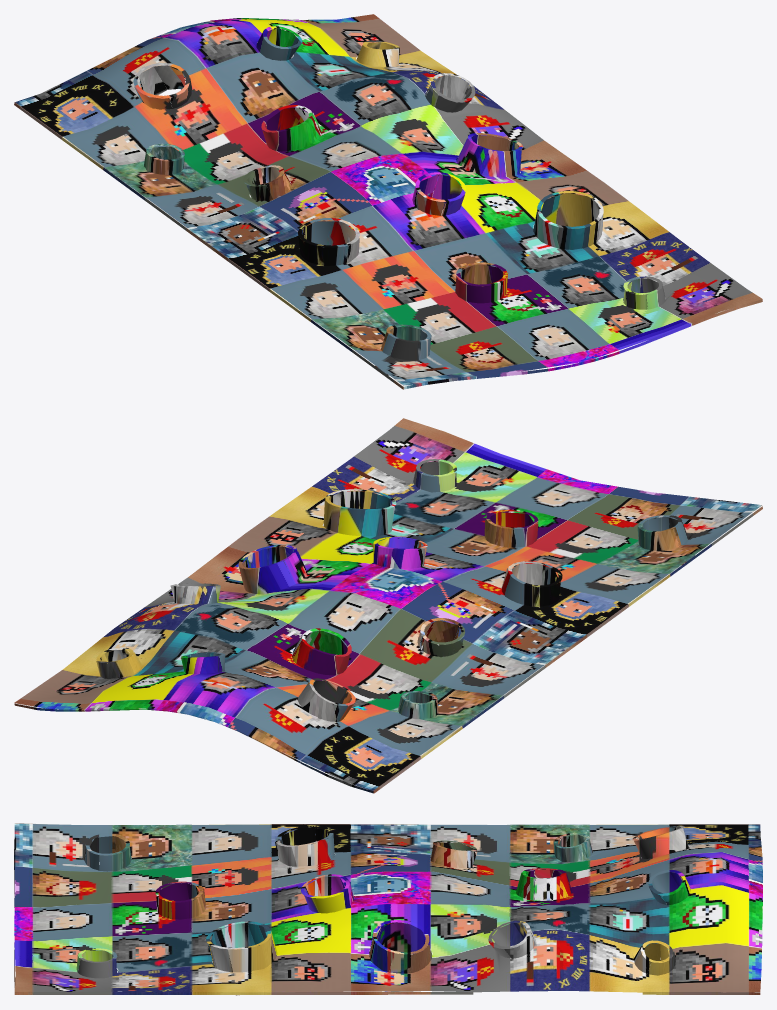
Rendered from spooky-davinci-carpet-v88.glb.
The picture shows the model from 3 angles, top to bottom: view 1: azimuth 30°, elevation 25°; view 2: azimuth 150°, elevation 25°; view 3: azimuth 270°, elevation 25°; orthographic projection. The views are drawn at different scales.
Parts seen in each view (by area): view 1: spooky-davinci-carpet; view 2: spooky-davinci-carpet; view 3: spooky-davinci-carpet.
Boxes of the visible parts, bbox=[...] form: spooky-davinci-carpet: bbox=[14, 14, 762, 389]; spooky-davinci-carpet: bbox=[14, 418, 762, 793]; spooky-davinci-carpet: bbox=[14, 823, 762, 995].
Bounding box in the file's own units: 3.12 × 0.6929 × 5.87.
1 material, 1 textured.
